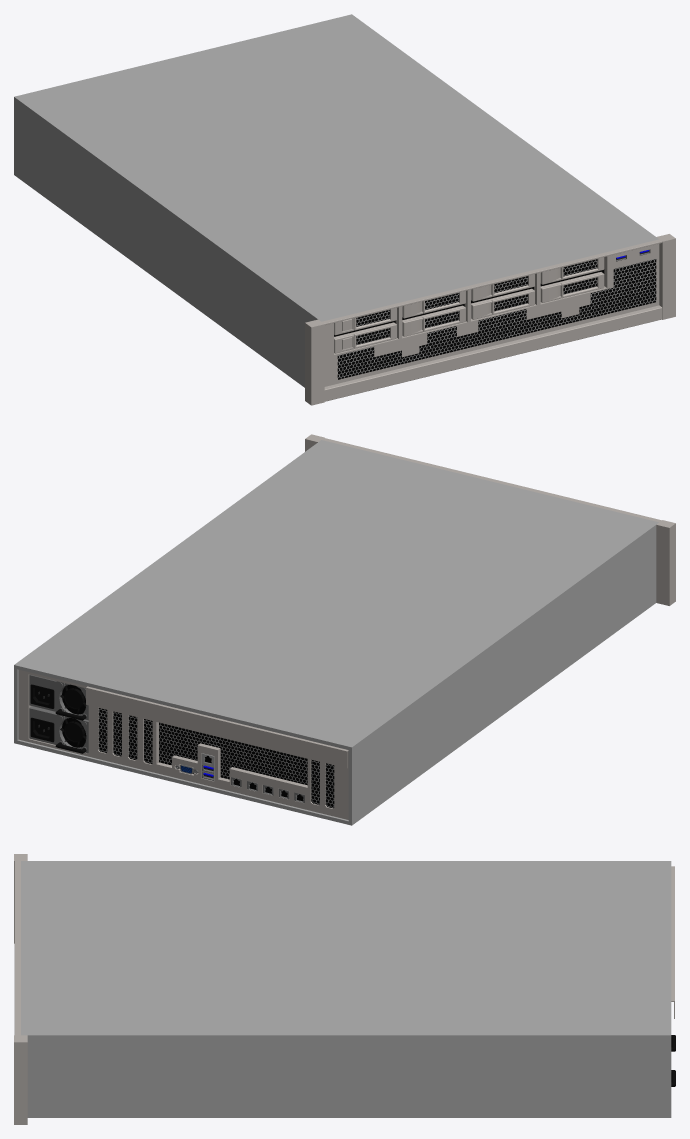
The model's file is ORACLE_ZS5-2.fbx.
The picture shows the model from 3 angles, top to bottom: view 1: azimuth 30°, elevation 25°; view 2: azimuth 150°, elevation 25°; view 3: azimuth 270°, elevation 25°; orthographic projection. The views are drawn at different scales.
Visible parts, largest first — view 1: ORACLE_ZS5-2; view 2: ORACLE_ZS5-2; view 3: ORACLE_ZS5-2.
Boxes of the visible parts, x1,y1,x2,y2 form: ORACLE_ZS5-2: [14, 14, 675, 405]; ORACLE_ZS5-2: [14, 434, 675, 825]; ORACLE_ZS5-2: [14, 854, 675, 1124].
Bounding box in the file's own units: 434 × 89 × 645.
9 materials, 1 textured.
